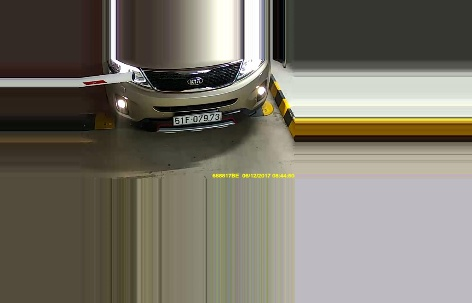plate: (171, 109, 222, 122)
